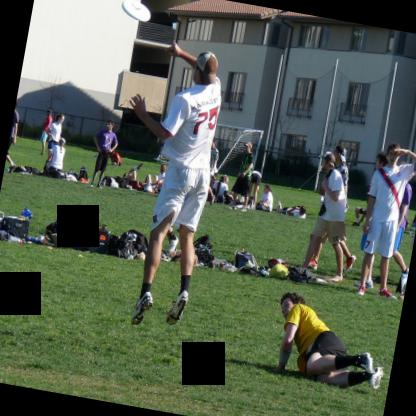backpack: (106, 228, 148, 260), (193, 234, 215, 270), (233, 250, 257, 273), (61, 216, 74, 238)
handbag: (318, 201, 326, 216)
